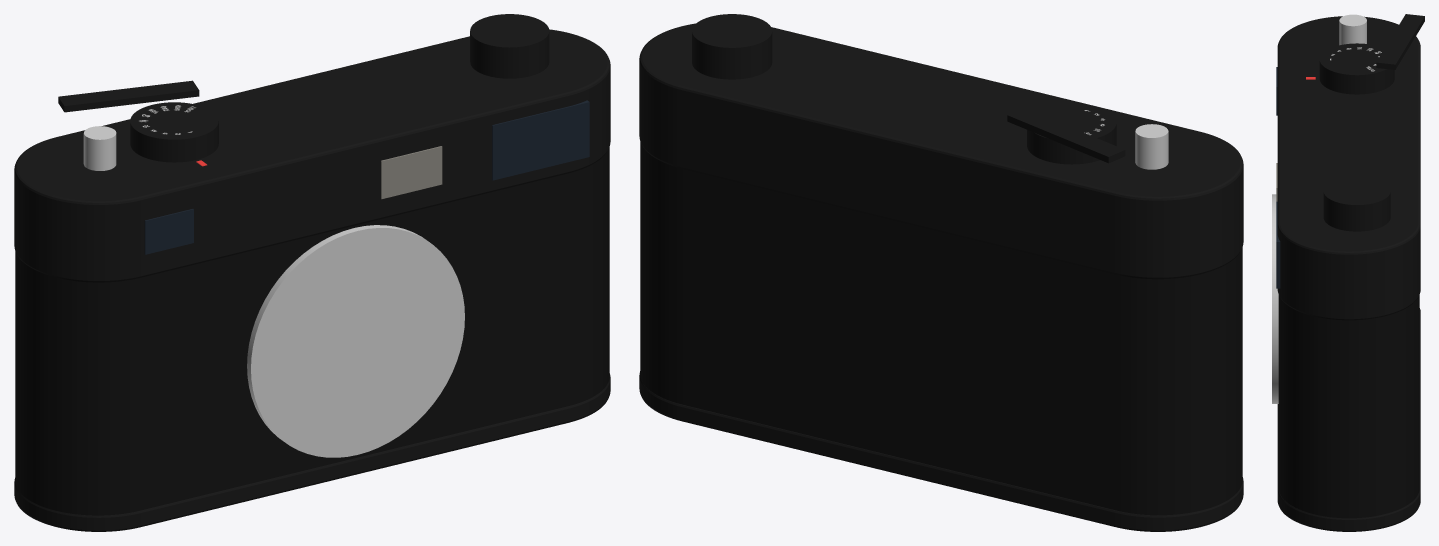
The model's file is body-m6.glb.
3 renders of one model, left to right at view 1: azimuth 30°, elevation 25°; view 2: azimuth 150°, elevation 25°; view 3: azimuth 270°, elevation 25°, orthographic. The views are drawn at different scales.
Visible parts, largest first — view 1: body, shutter-dial, advance-lever; view 2: body, shutter-dial, advance-lever; view 3: body, shutter-dial, advance-lever.
Boxes of the visible parts, <box> form: body: <box>14,14,610,531</box>; shutter-dial: <box>130,102,218,162</box>; advance-lever: <box>58,80,199,112</box>; body: <box>639,14,1243,531</box>; shutter-dial: <box>1027,103,1116,164</box>; advance-lever: <box>1007,108,1125,163</box>; body: <box>1272,14,1420,531</box>; shutter-dial: <box>1319,43,1394,94</box>; advance-lever: <box>1376,14,1424,69</box>.
Bounding box in the file's own units: 0.142 × 0.0868 × 0.0386.
Materials: 9 (1 with a texture image).
